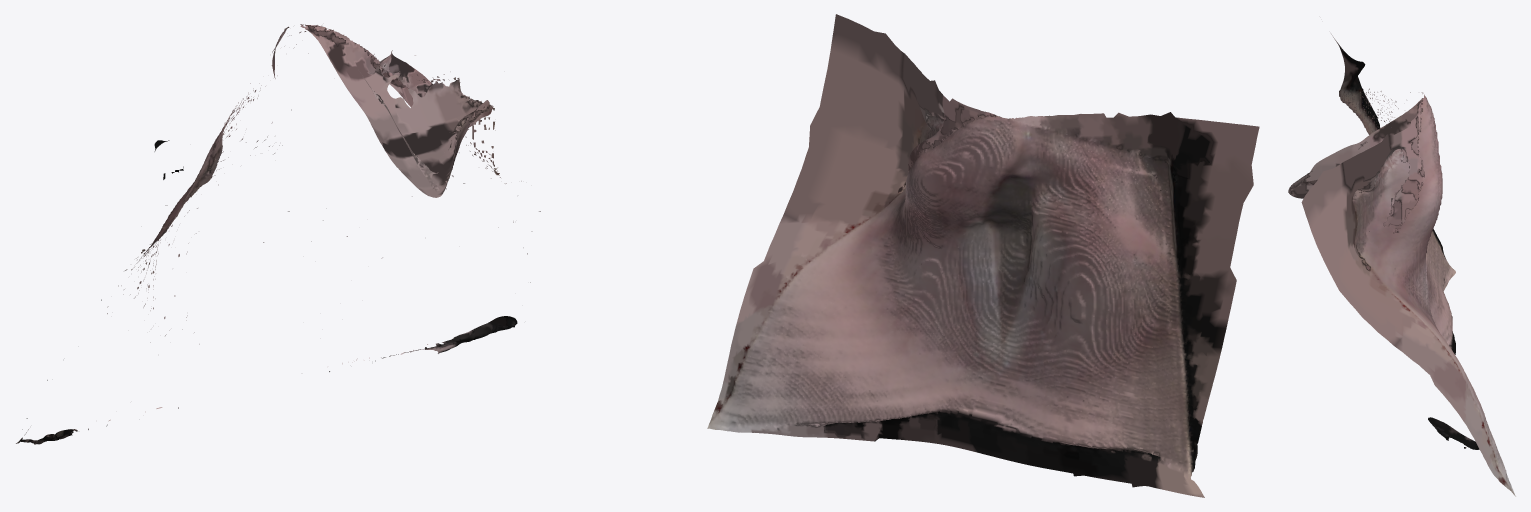
3 views of the same model, side by side, from view 1: azimuth 30°, elevation 25°; view 2: azimuth 150°, elevation 25°; view 3: azimuth 270°, elevation 25° (orthographic). The views are drawn at different scales.
Size of the model in its own units: 0.00142 by 0.001 by 0.000702.
